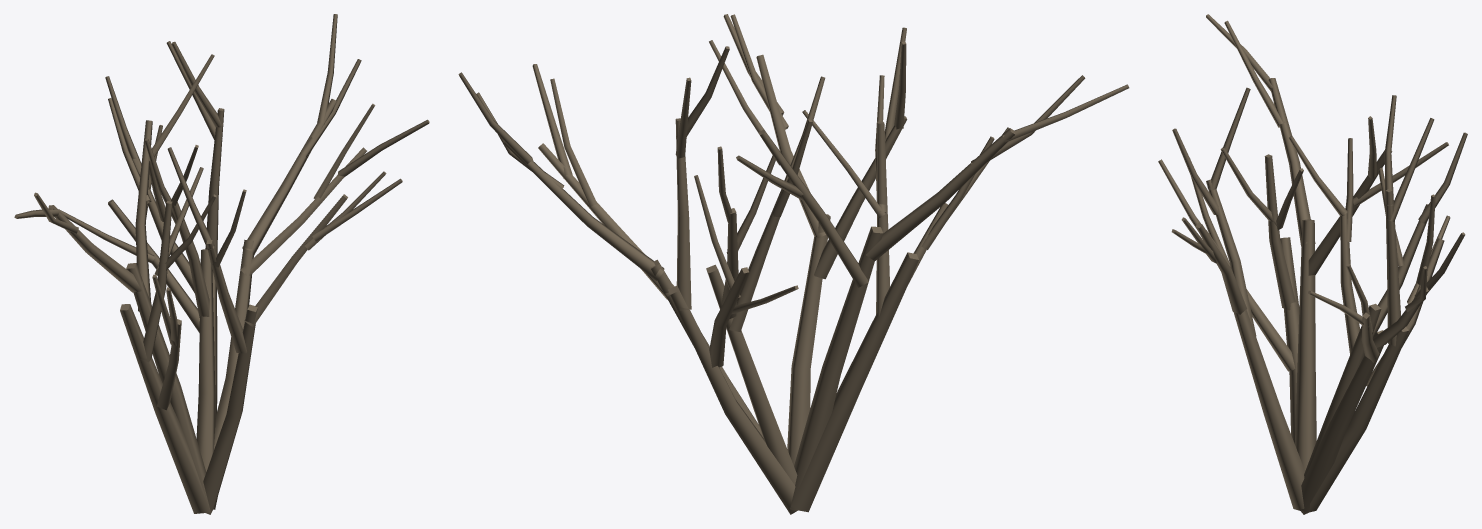
Rendered from dry_shrub_1_burnt1.glb.
3 renders of one model, left to right at view 1: azimuth 30°, elevation 25°; view 2: azimuth 150°, elevation 25°; view 3: azimuth 270°, elevation 25°, orthographic. The views are drawn at different scales.
Visible parts, largest first — view 1: dry_shrub_1_burnt1; view 2: dry_shrub_1_burnt1; view 3: dry_shrub_1_burnt1.
Part boxes in pixels (bbox=[...]): dry_shrub_1_burnt1: bbox=[14, 14, 429, 514]; dry_shrub_1_burnt1: bbox=[458, 14, 1129, 514]; dry_shrub_1_burnt1: bbox=[1158, 14, 1467, 514].
Bounding box in the file's own units: 1.19 × 1.06 × 0.7015.
